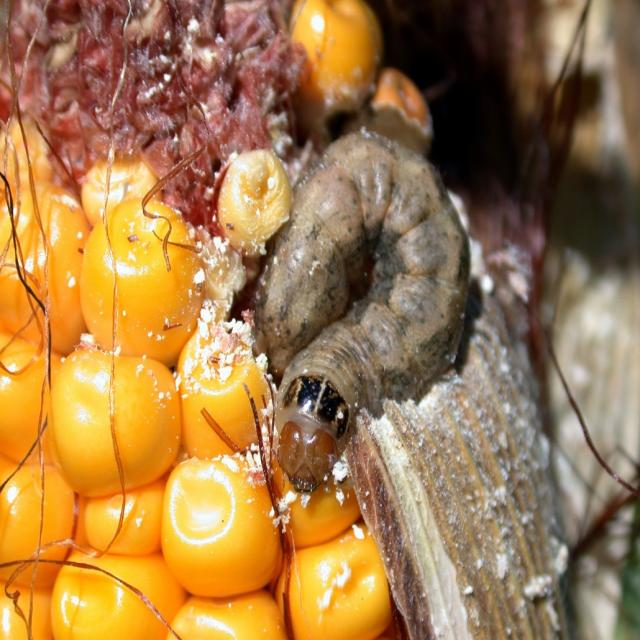worm: (255, 127, 473, 494)
